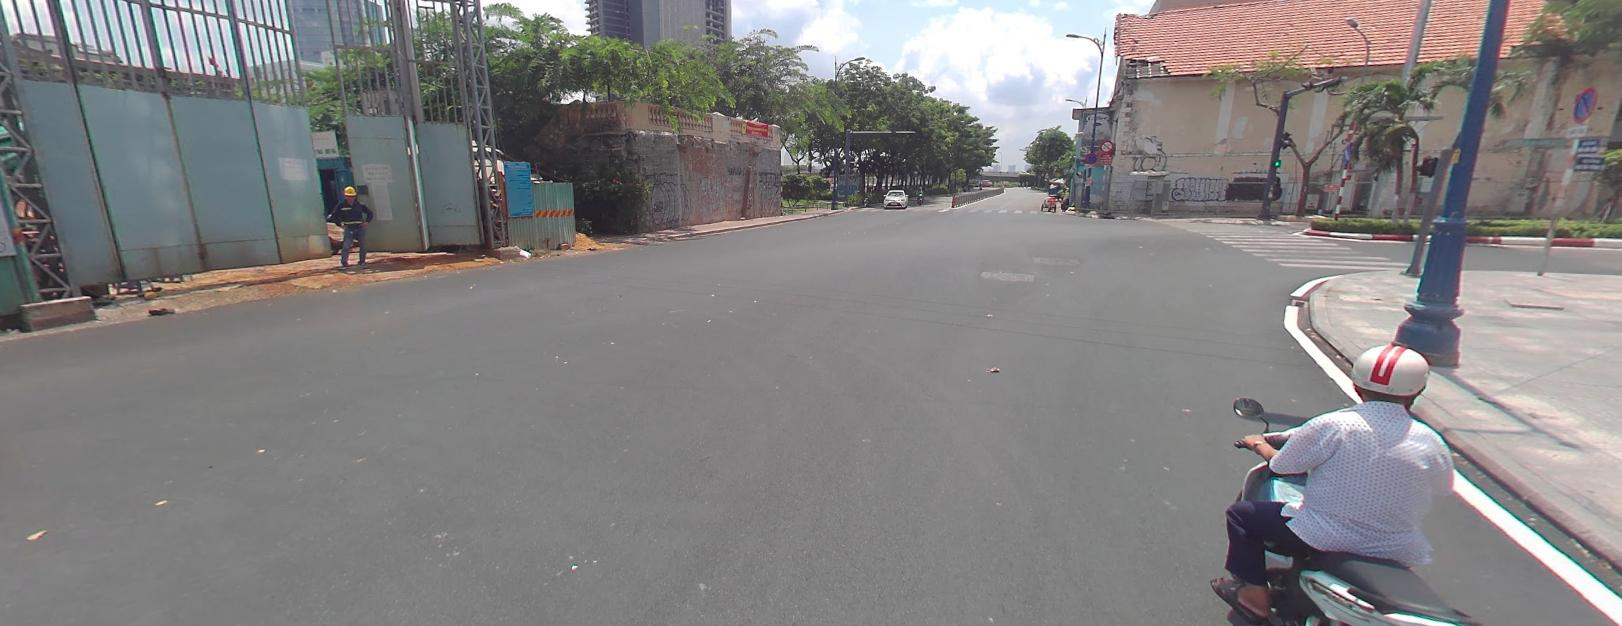Cam con lai: (1099, 139, 1115, 150)
Cam dung va do: (1572, 86, 1596, 120), (1085, 151, 1097, 161)
Cam nguoc chieu: (1345, 120, 1355, 140)
Hieu lenh: (1341, 142, 1351, 163)
